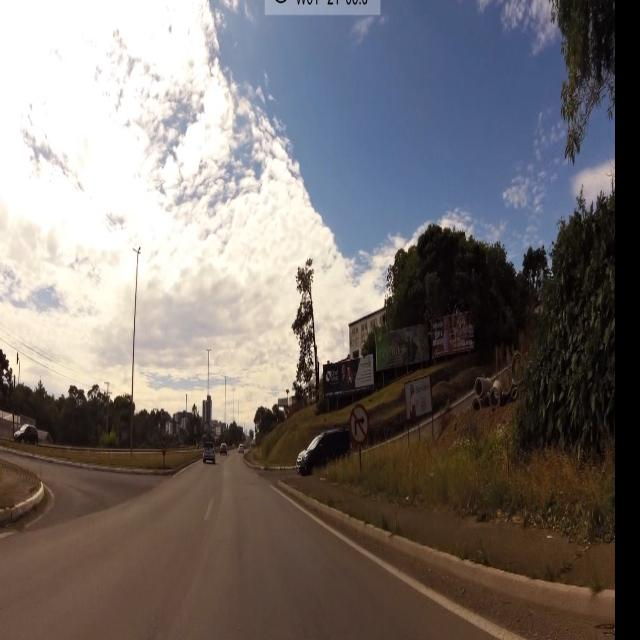R-4b: (349, 403, 369, 448)
